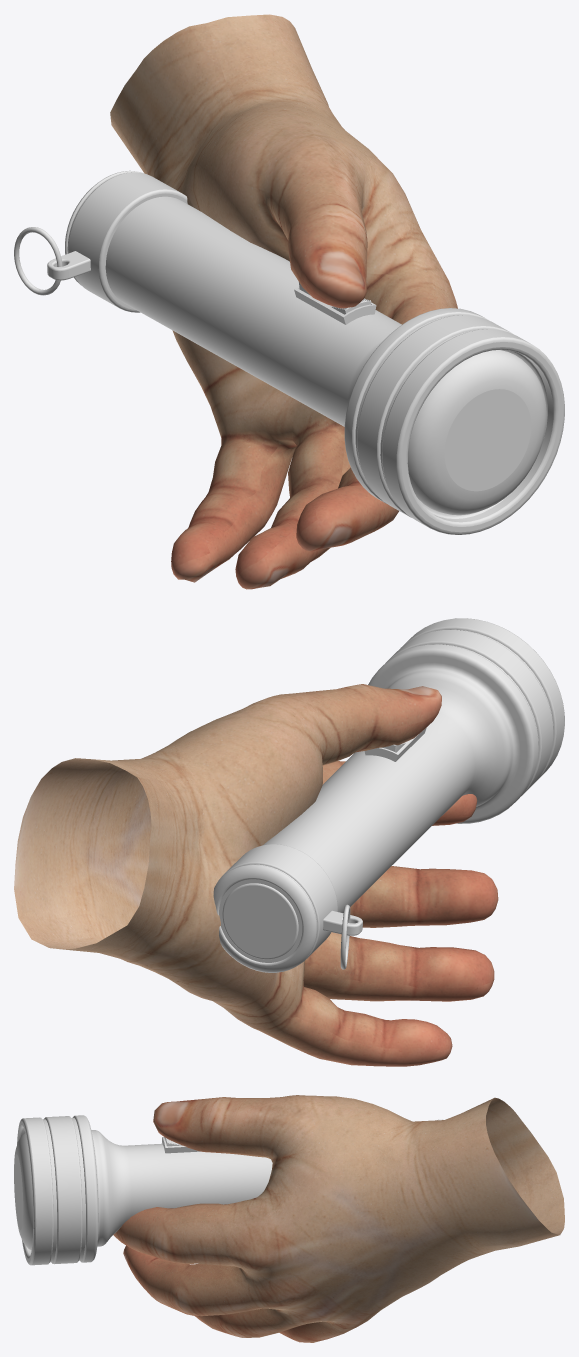
The model's file is hand&flash.fbx.
3 views of the same model, one above another, from view 1: azimuth 30°, elevation 25°; view 2: azimuth 150°, elevation 25°; view 3: azimuth 270°, elevation 25° (orthographic). The views are drawn at different scales.
Parts seen in each view (by area): view 1: handlow, Torus; view 2: handlow, Torus; view 3: handlow, Torus.
Part boxes in pixels (x1,y1,x2,y2): handlow: [110, 14, 457, 589]; Torus: [14, 170, 564, 534]; handlow: [14, 684, 498, 1066]; Torus: [213, 618, 564, 972]; handlow: [113, 1095, 564, 1342]; Torus: [14, 1115, 443, 1265].
Size of the model in its own units: 250 by 300 by 536.
